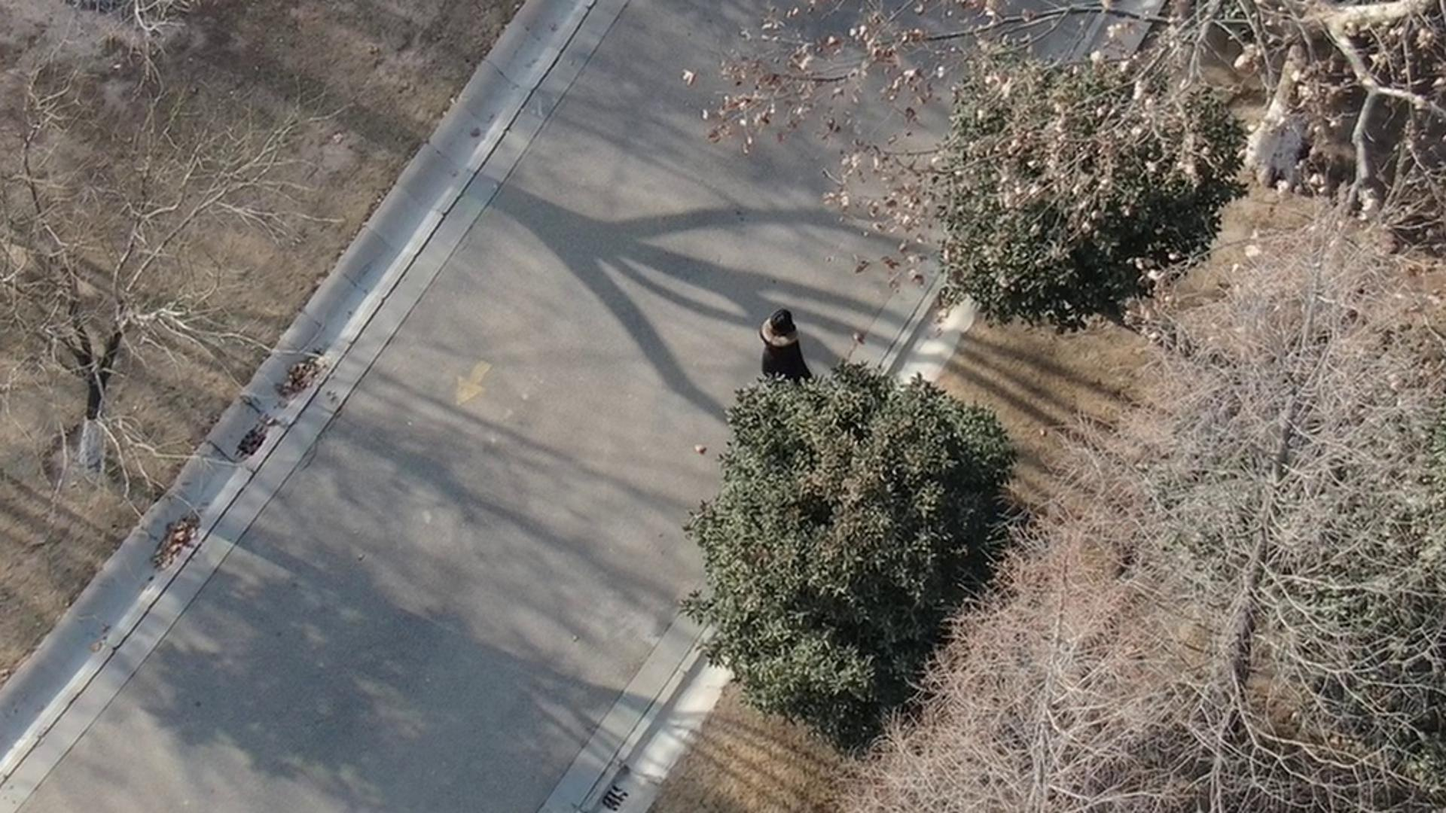human: (744, 291, 800, 362)
